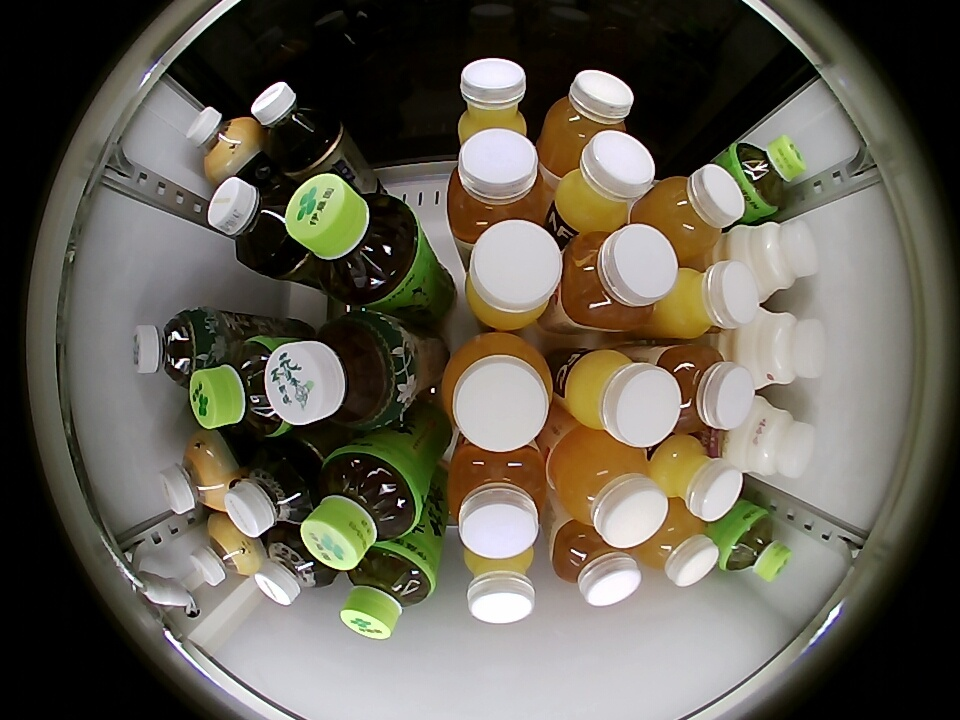asamu: (158, 436, 233, 515), (186, 106, 256, 179), (189, 516, 258, 586)
chapai: (559, 224, 678, 331), (446, 128, 546, 245), (650, 345, 754, 433), (550, 519, 641, 606)
moliqingcha: (264, 312, 413, 430), (131, 307, 215, 386)
nfc: (464, 217, 562, 331), (567, 350, 681, 448), (552, 130, 655, 233), (647, 434, 743, 521), (655, 261, 761, 338), (457, 58, 531, 146), (461, 545, 534, 624)
weic: (547, 430, 667, 548), (443, 332, 553, 451), (447, 440, 547, 559), (633, 165, 744, 262), (538, 70, 635, 174), (633, 503, 718, 586)
wulongcha: (207, 176, 297, 272), (224, 449, 313, 537), (252, 81, 332, 161), (254, 527, 335, 605)
yingyangkuaixian: (724, 398, 815, 479), (728, 220, 819, 299), (735, 310, 826, 387)
yitengyuan: (285, 174, 421, 307), (301, 442, 425, 570), (190, 333, 303, 439), (340, 541, 436, 640), (725, 135, 807, 221), (716, 508, 792, 582)
